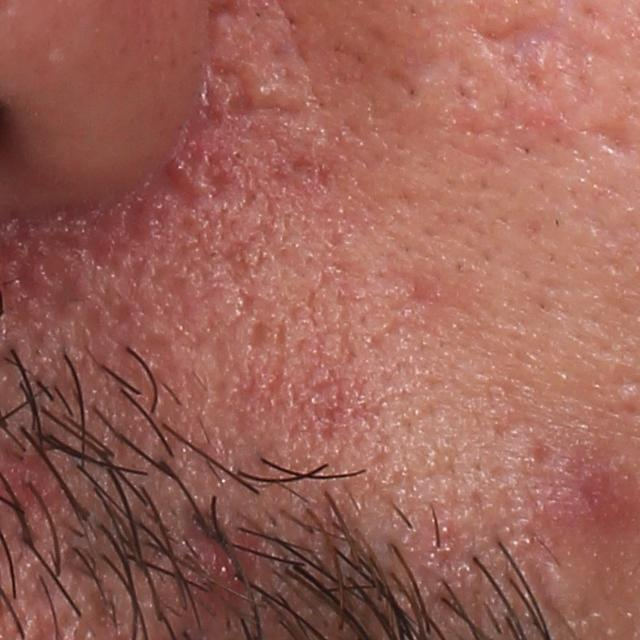atrophic_scar: (197, 56, 261, 125), (284, 148, 338, 200)
papule: (540, 453, 622, 530)
